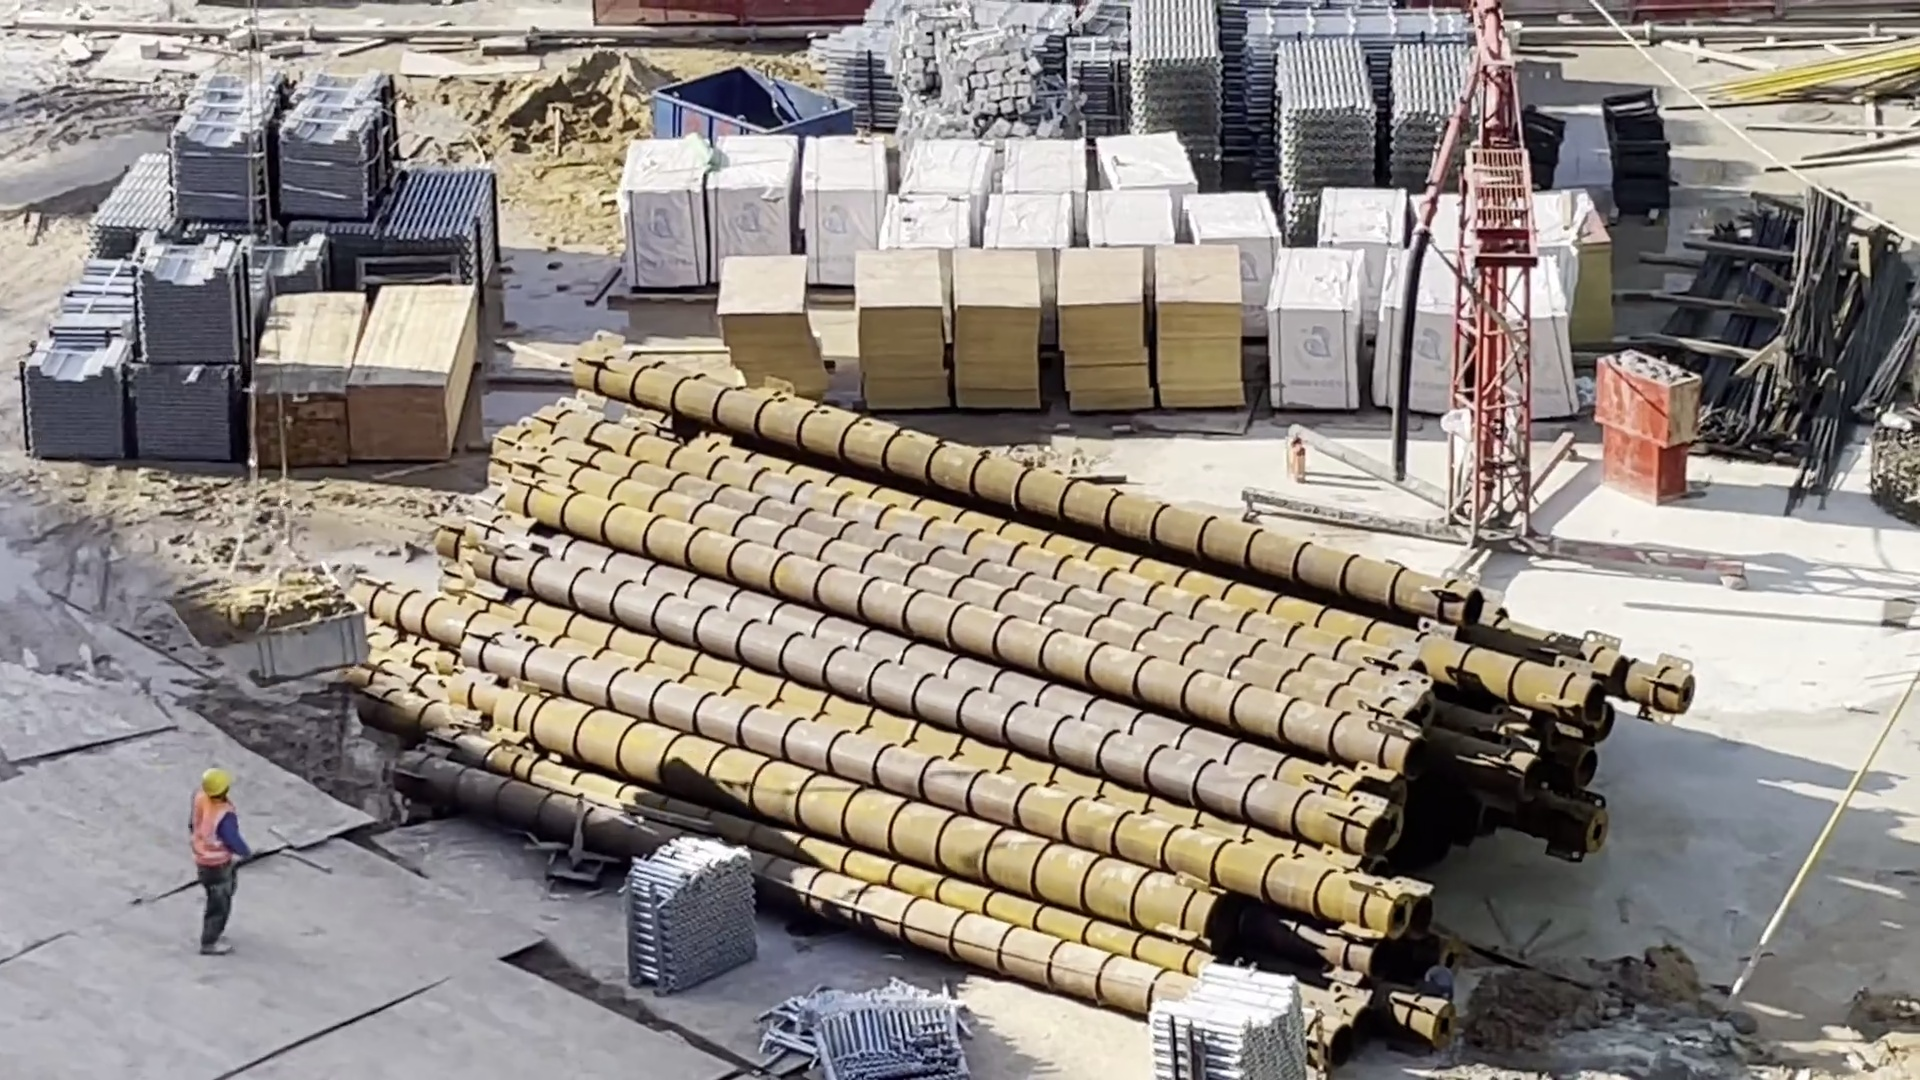board: (359, 293, 442, 485), (848, 256, 935, 427), (719, 265, 816, 409), (1168, 252, 1247, 416), (1061, 265, 1151, 404), (956, 277, 1029, 419)
fence: (587, 1, 865, 19)
helmet: (200, 772, 236, 796)
hopper: (202, 576, 360, 694), (659, 70, 829, 141)
person: (177, 769, 253, 959)
rebar: (1675, 220, 1786, 416), (1803, 288, 1880, 471), (1635, 242, 1724, 362), (1768, 208, 1838, 360), (1864, 282, 1920, 405)
scaffold: (628, 852, 777, 975), (781, 991, 973, 1079), (1156, 980, 1308, 1080), (1133, 12, 1232, 140), (1283, 53, 1365, 157), (1384, 65, 1464, 172), (387, 182, 482, 256), (1236, 16, 1463, 43), (102, 161, 168, 246), (1059, 33, 1113, 95)
vest: (185, 803, 237, 883)
wood: (247, 311, 352, 485)
